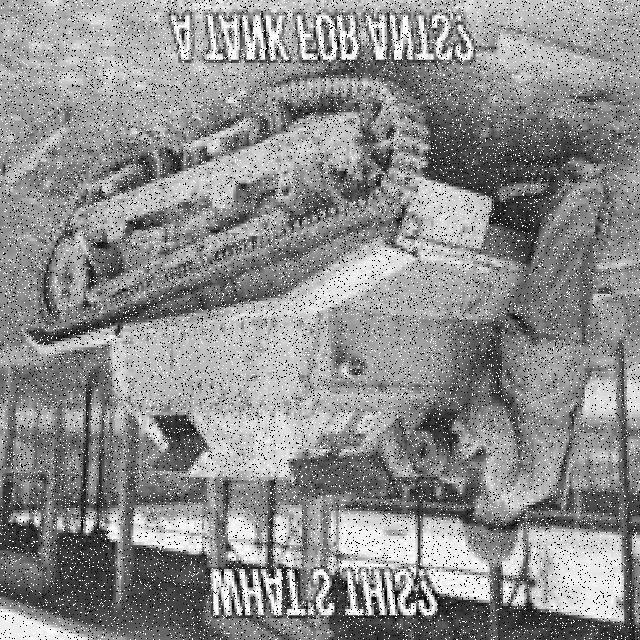MIL_MBT: (38, 50, 551, 566)
